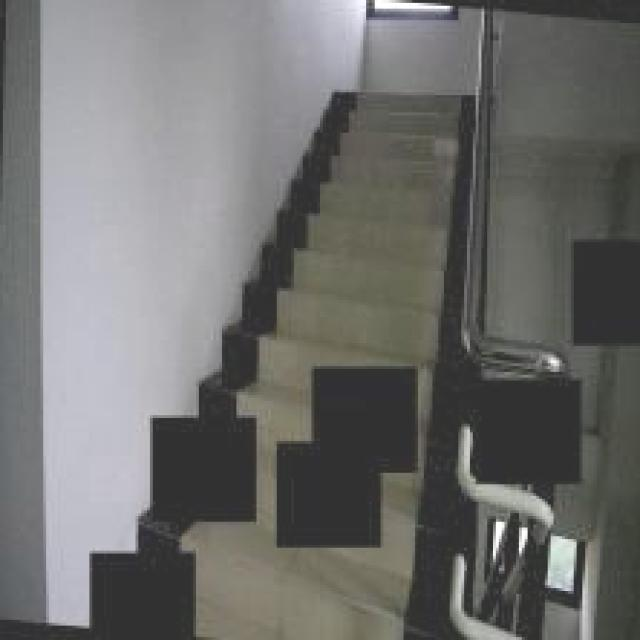upstair: (318, 82, 439, 333)
